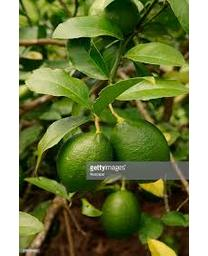lemon: (113, 118, 169, 184), (57, 132, 114, 192), (103, 189, 139, 240)
